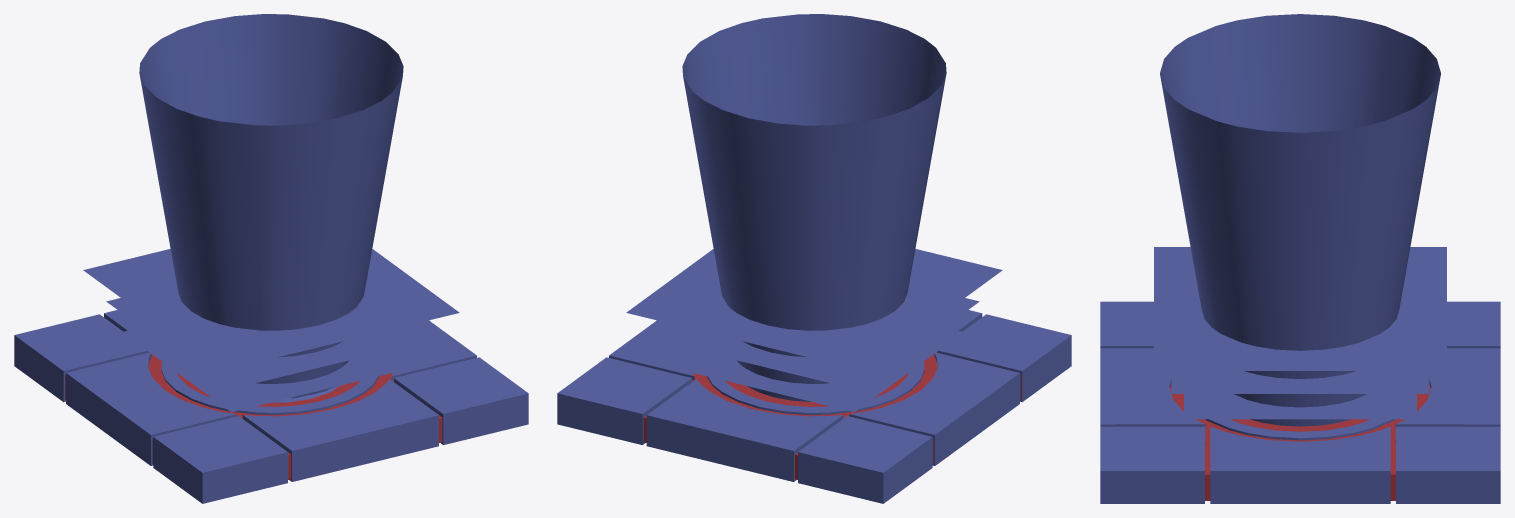
Rendered from SM_JumpPad_01.fbx.
The picture shows the model from 3 angles, left to right: view 1: azimuth 30°, elevation 25°; view 2: azimuth 150°, elevation 25°; view 3: azimuth 270°, elevation 25°; orthographic projection. The views are drawn at different scales.
Parts seen in each view (by area): view 1: SM_JumpPad_Glow, SM_JumpPad_Pad, SM_JumpPad_Rings; view 2: SM_JumpPad_Glow, SM_JumpPad_Pad, SM_JumpPad_Rings; view 3: SM_JumpPad_Glow, SM_JumpPad_Pad, SM_JumpPad_Rings.
Boxes of the visible parts, box(x1,y1,x2,y2) form: SM_JumpPad_Glow: box(139, 14, 403, 398); SM_JumpPad_Pad: box(14, 310, 528, 503); SM_JumpPad_Rings: box(83, 249, 459, 412); SM_JumpPad_Glow: box(682, 14, 946, 401); SM_JumpPad_Pad: box(557, 310, 1071, 503); SM_JumpPad_Rings: box(626, 249, 1002, 412); SM_JumpPad_Glow: box(1160, 14, 1440, 426); SM_JumpPad_Pad: box(1100, 301, 1500, 503); SM_JumpPad_Rings: box(1154, 247, 1446, 419).
Size of the model in its own units: 200 by 191 by 200.
